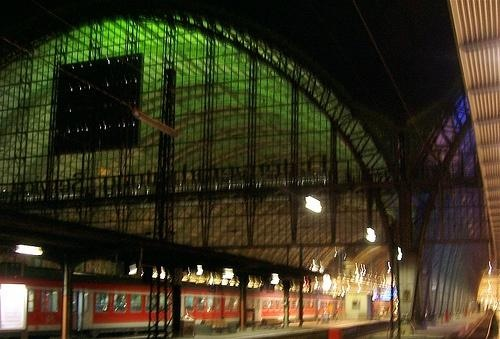train: (1, 276, 346, 337)
